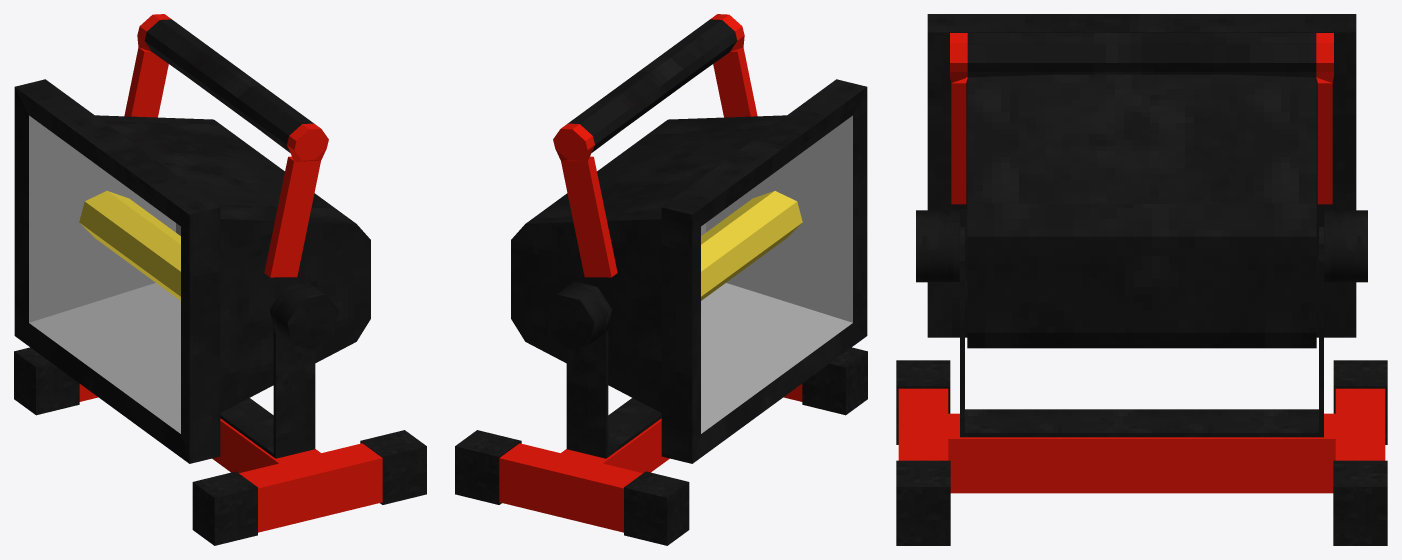
The model's file is halogen.glb.
3 renders of one model, left to right at view 1: azimuth 30°, elevation 25°; view 2: azimuth 150°, elevation 25°; view 3: azimuth 270°, elevation 25°, orthographic. The views are drawn at different scales.
Visible parts, largest first — view 1: Halogen, HalogenStand; view 2: Halogen, HalogenStand; view 3: Halogen, HalogenStand.
Boxes of the visible parts, x1,y1,x2,y2 form: Halogen: (14,14,370,463); HalogenStand: (14,281,426,545); Halogen: (511,14,867,463); HalogenStand: (455,281,867,545); Halogen: (927,14,1356,348); HalogenStand: (896,210,1387,545).
Size of the model in its own units: 0.0863 by 0.1368 by 0.1337.
Materials: 4 (1 with a texture image).
